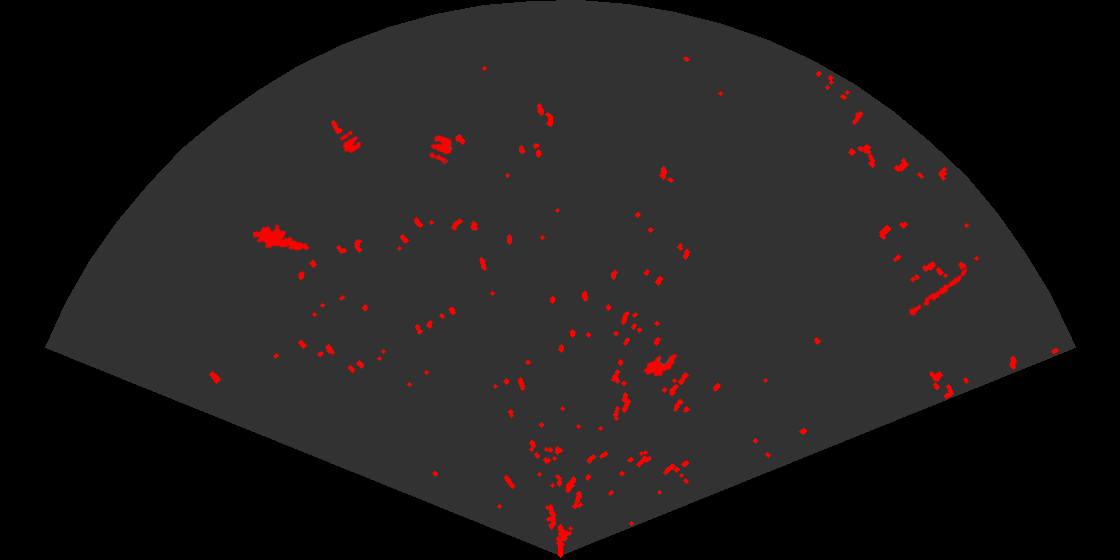AUV: (642, 352, 679, 378)
ball: (427, 133, 454, 163), (338, 129, 363, 155)
chain: (903, 267, 969, 321)
frogman: (253, 222, 311, 252)
